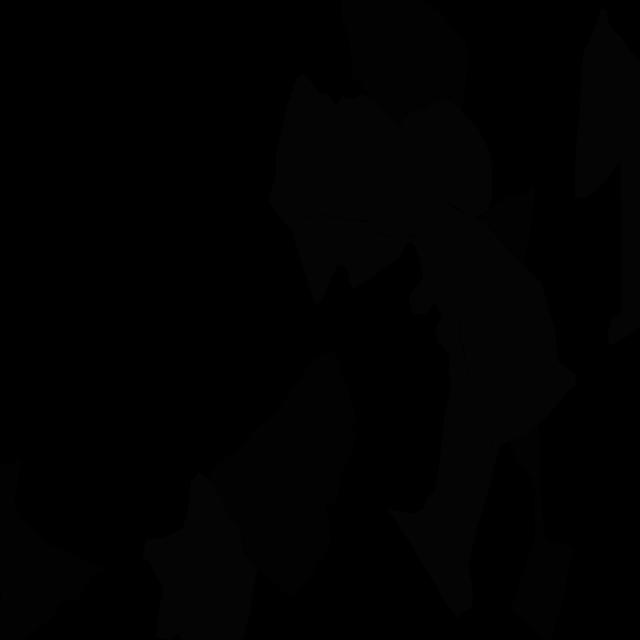cardboard: (207, 349, 356, 595), (0, 458, 104, 640), (341, 0, 469, 127), (508, 422, 574, 640), (475, 184, 535, 263)
soft_plastic: (291, 215, 500, 619), (420, 195, 576, 447), (269, 74, 492, 238), (575, 9, 640, 345), (142, 472, 226, 640), (177, 516, 258, 640)
